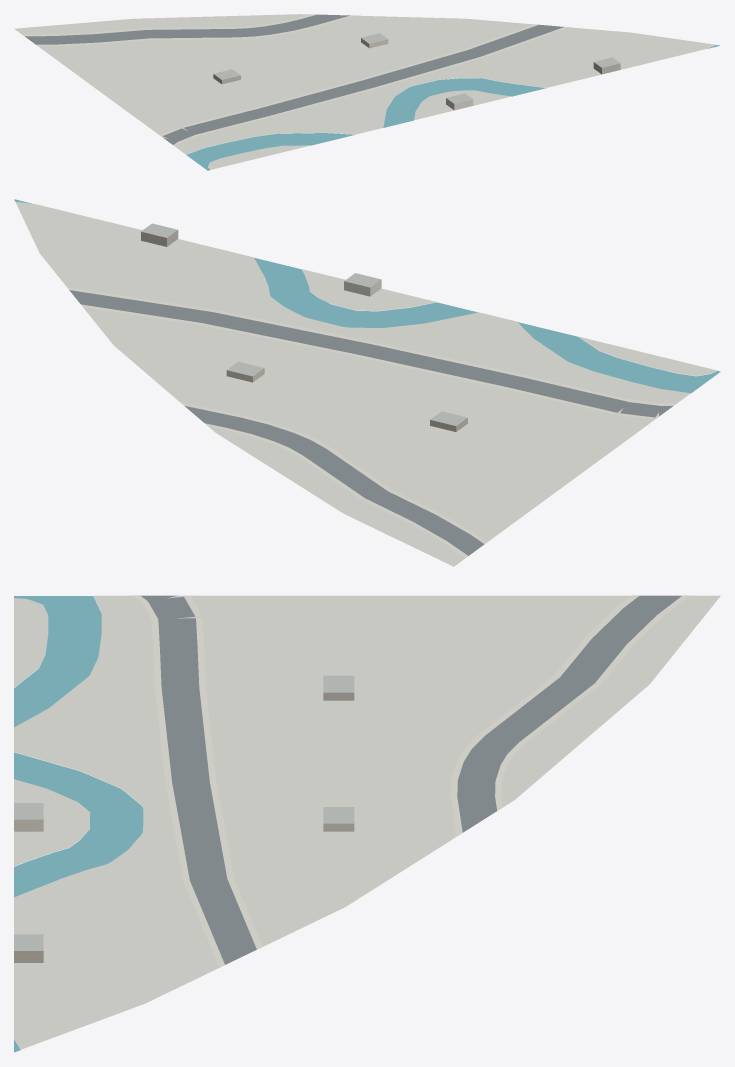
3 renders of one model, top to bottom at view 1: azimuth 30°, elevation 25°; view 2: azimuth 150°, elevation 25°; view 3: azimuth 270°, elevation 25°, orthographic. The views are drawn at different scales.
Visible parts, largest first — view 1: city; view 2: city; view 3: city.
Boxes of the visible parts, box(x1,y1,x2,y2) form: city: box(14, 14, 719, 170); city: box(14, 199, 720, 566); city: box(14, 595, 720, 1052).
Size of the model in its own units: 487 by 6.18 by 319.
